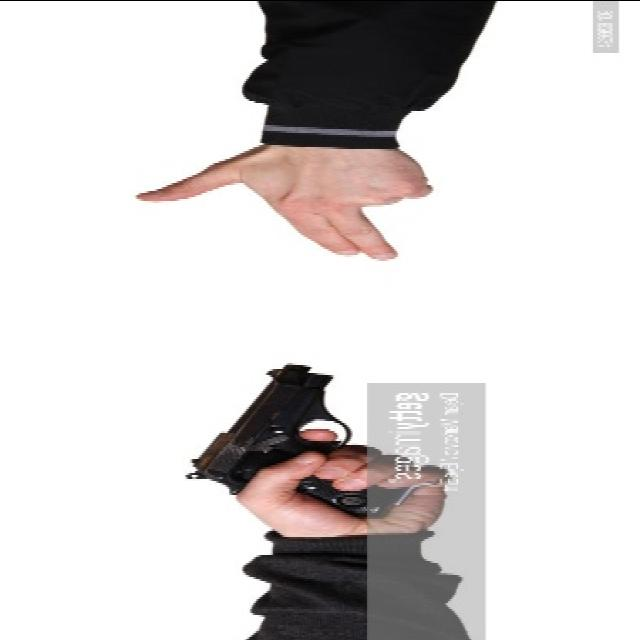handgun: (183, 361, 416, 523)
